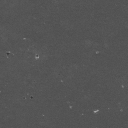corrosion: (34, 52, 40, 60), (5, 51, 11, 58), (93, 108, 99, 114), (95, 50, 99, 54)
